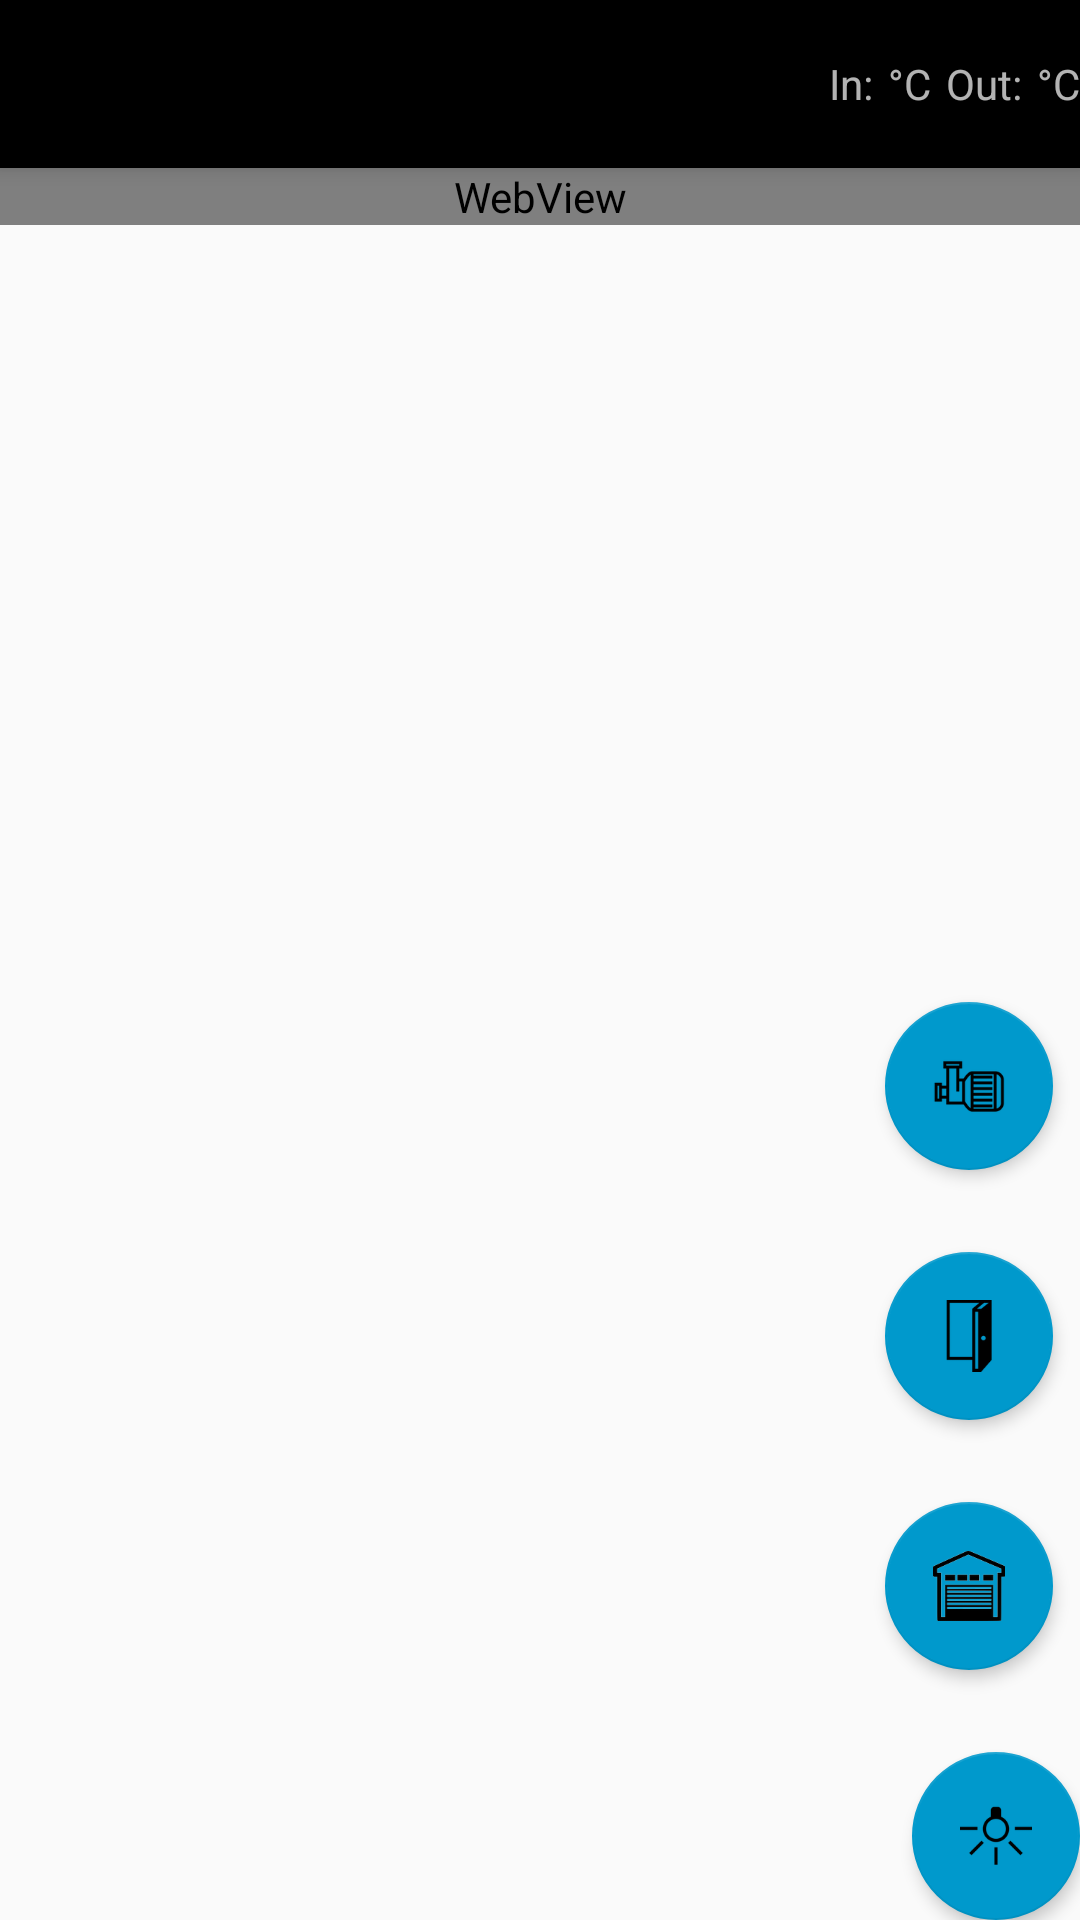

Icons on this 1080w x 1920h Android screen, each with its box as (x1, y1, x2, y2):
door: (885, 1252, 1054, 1426)
nasos: (885, 1002, 1054, 1174)
vorota: (885, 1502, 1054, 1677)
